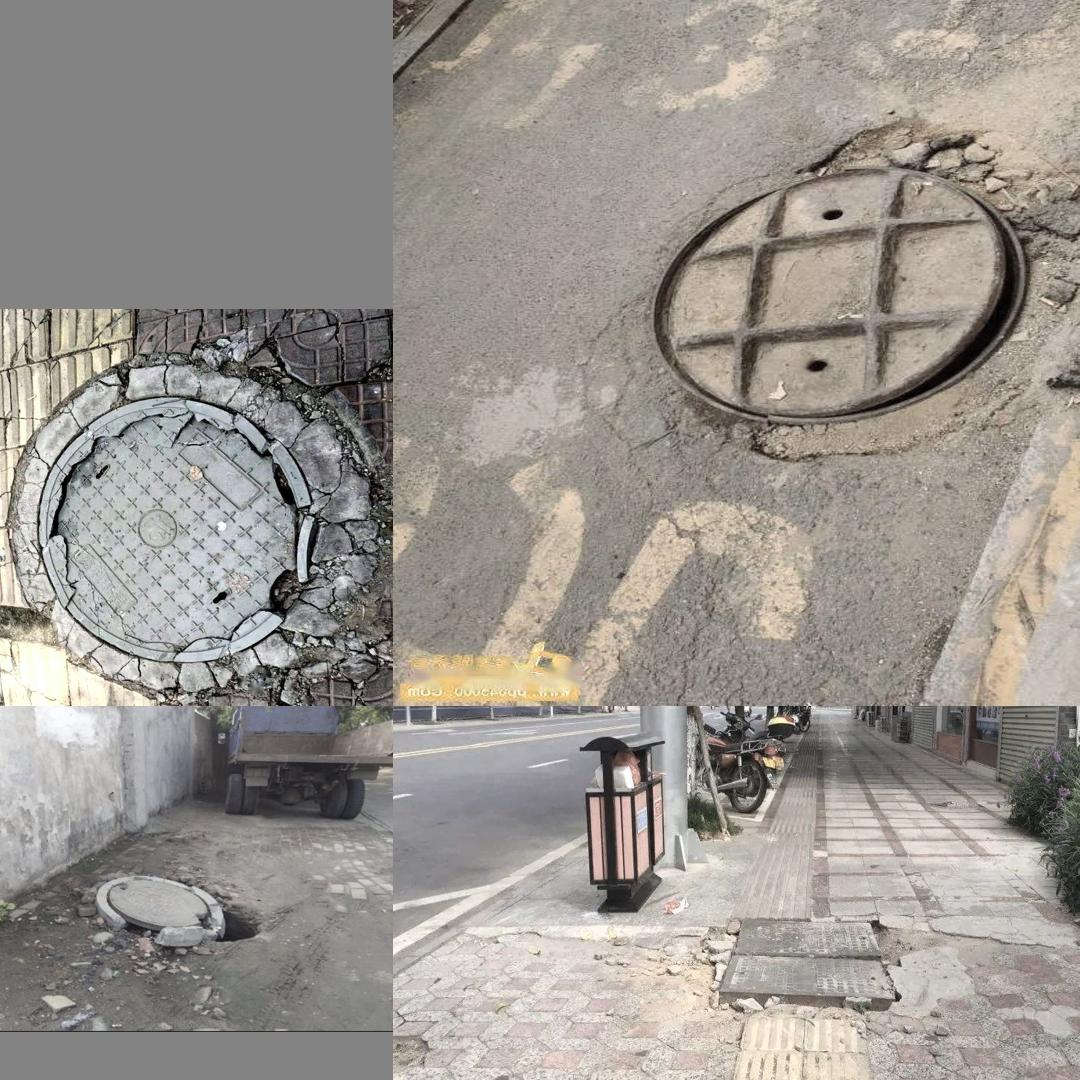circle: (589, 112, 1080, 484), (0, 355, 370, 687), (666, 894, 931, 1053), (93, 874, 248, 948)
